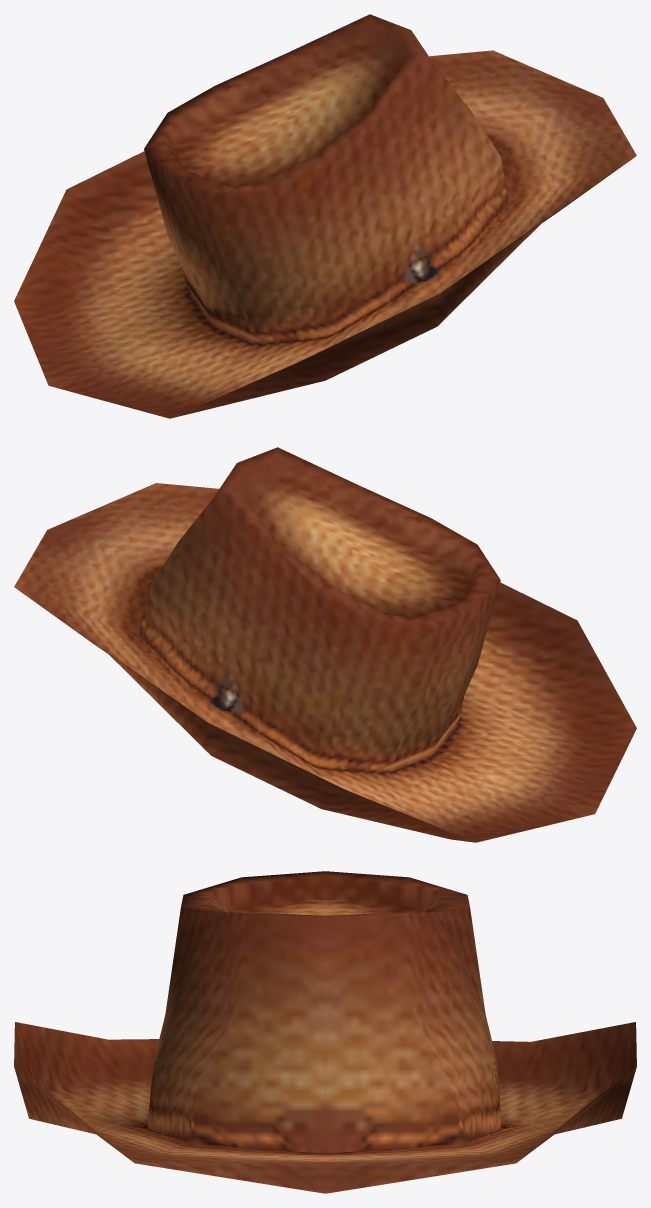
File: hat_0400003.FBX
3 renders of one model, top to bottom at view 1: azimuth 30°, elevation 25°; view 2: azimuth 150°, elevation 25°; view 3: azimuth 270°, elevation 25°, orthographic. The views are drawn at different scales.
Parts seen in each view (by area): view 1: hat_0400003; view 2: hat_0400003; view 3: hat_0400003.
Part boxes in pixels (x1,y1,x2,y2): hat_0400003: (14,14,636,418); hat_0400003: (14,447,636,842); hat_0400003: (14,871,636,1193).
Bounding box in the file's own units: 54.97 × 25.29 × 40.36.
